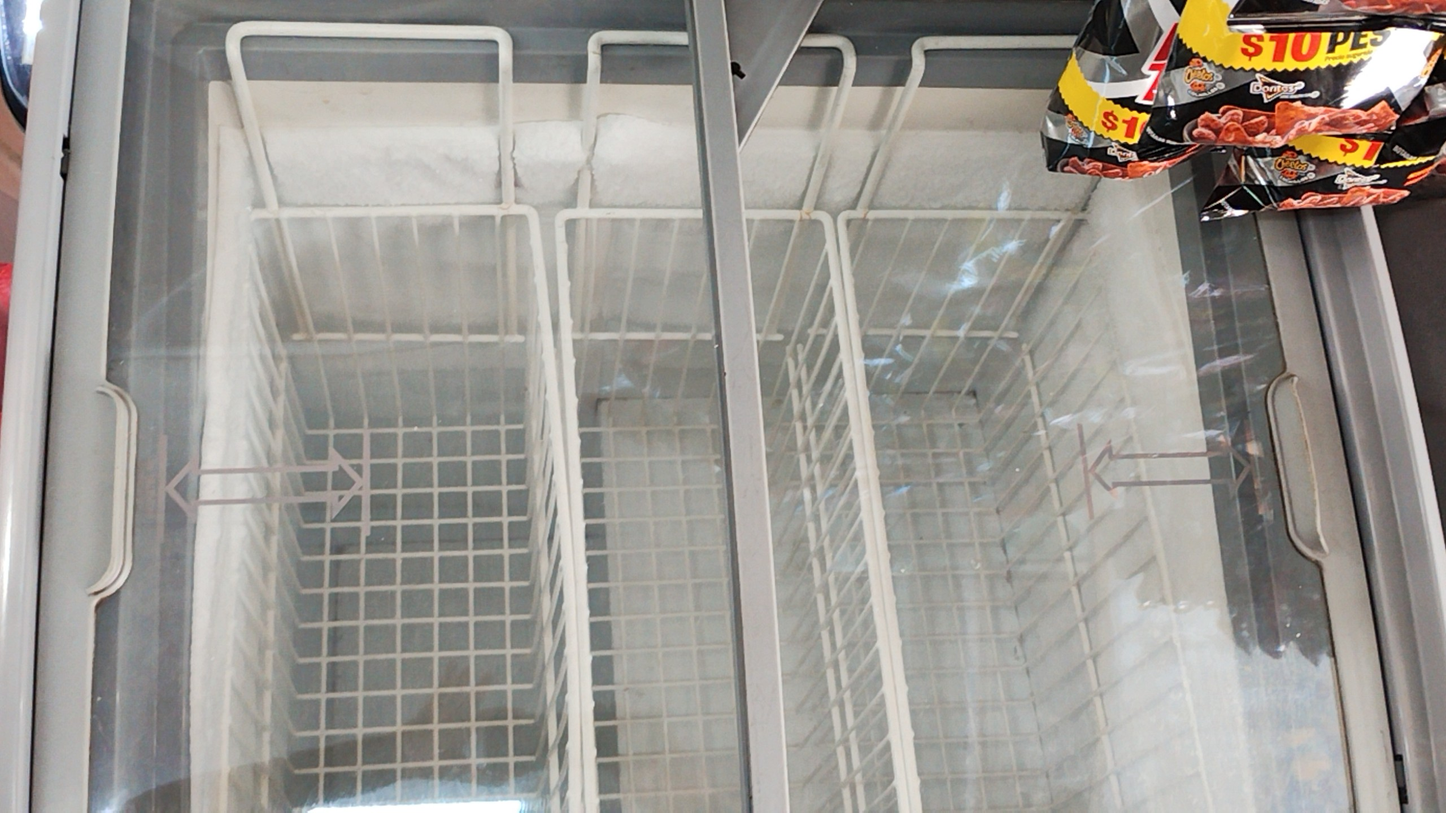rejilla: (1090, 221, 1213, 812), (841, 222, 921, 812), (830, 223, 907, 812), (532, 220, 581, 812), (558, 219, 596, 812), (220, 221, 251, 813), (256, 206, 528, 215), (844, 213, 1089, 218), (563, 212, 700, 216), (748, 212, 827, 217)
